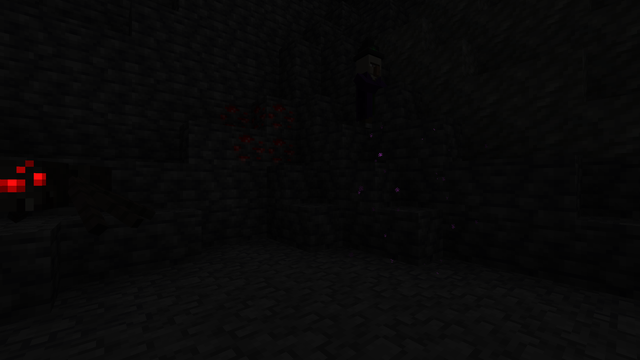araignees: (5, 152, 125, 241)
sorcieres: (352, 49, 383, 130)
